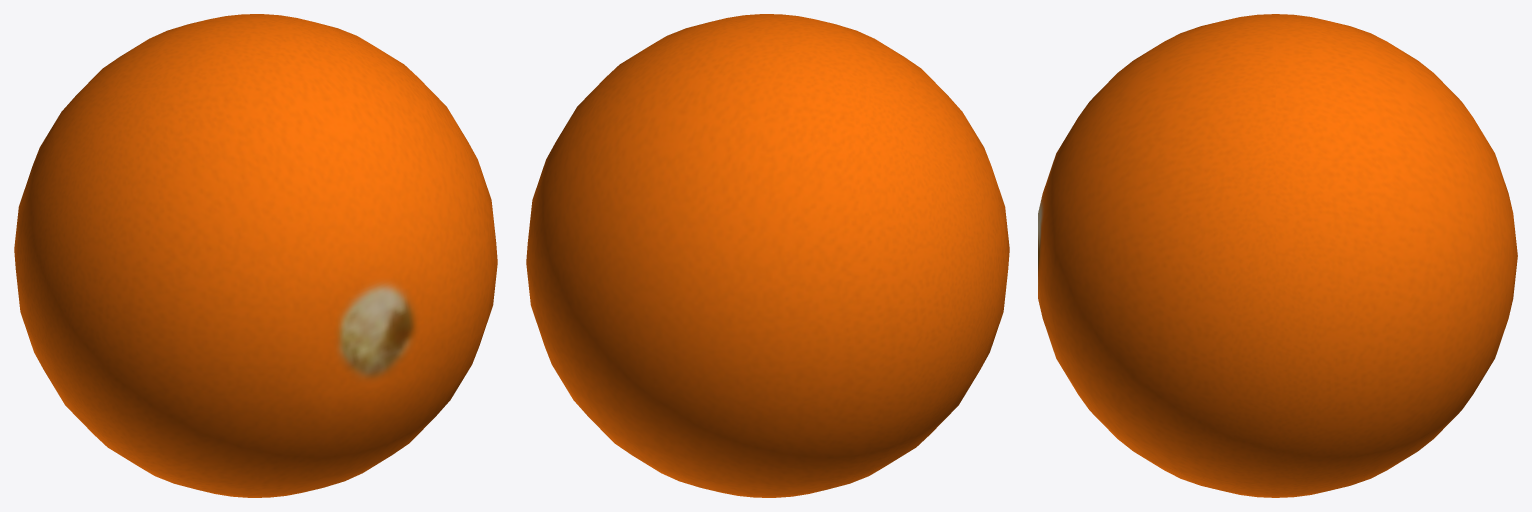
File: OrangeFBX.fbx
3 renders of one model, left to right at view 1: azimuth 30°, elevation 25°; view 2: azimuth 150°, elevation 25°; view 3: azimuth 270°, elevation 25°, orthographic.
Parts seen in each view (by area): view 1: Sphere; view 2: Sphere; view 3: Sphere.
Part boxes in pixels (x1,y1,x2,y2): Sphere: [14, 14, 497, 497]; Sphere: [526, 14, 1009, 497]; Sphere: [1038, 14, 1517, 497].
Size of the model in its own units: 200 by 200 by 198.
1 material, 1 textured.
